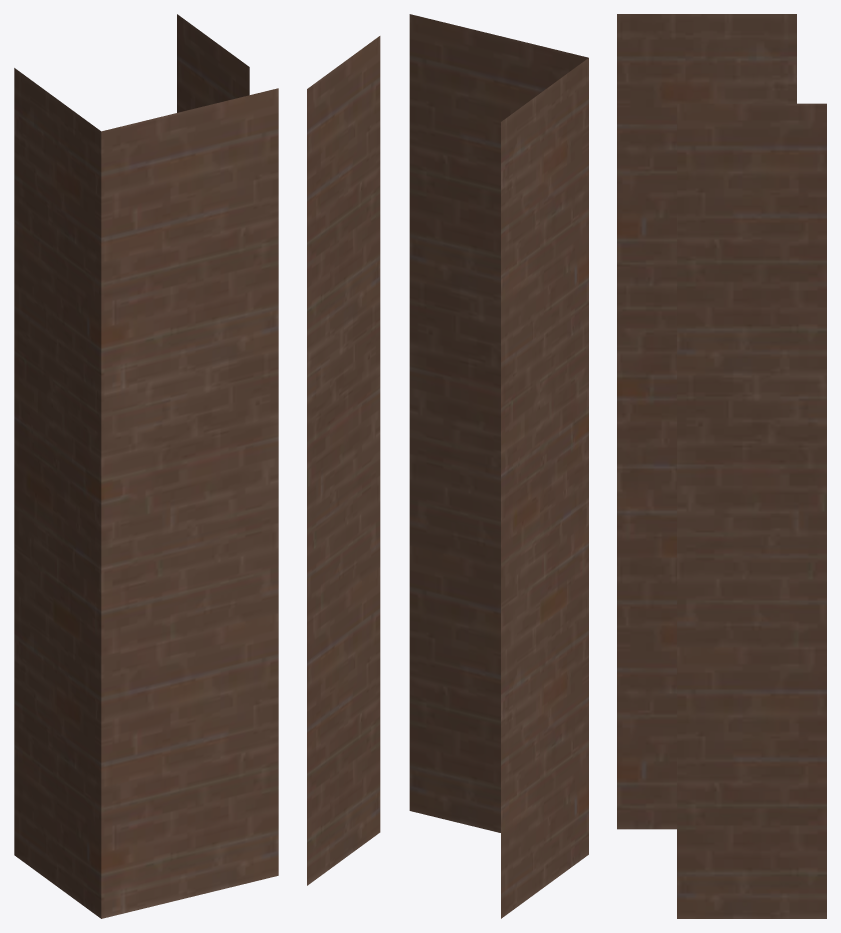
The model's file is Brick_90Angle_R.glb.
3 renders of one model, left to right at view 1: azimuth 30°, elevation 25°; view 2: azimuth 150°, elevation 25°; view 3: azimuth 270°, elevation 25°, orthographic. The views are drawn at different scales.
Visible parts, largest first — view 1: Brick_90Angle_R; view 2: Brick_90Angle_R; view 3: Brick_90Angle_R.
Part boxes in pixels (bbox=[...]): Brick_90Angle_R: bbox=[14, 14, 278, 918]; Brick_90Angle_R: bbox=[307, 14, 588, 918]; Brick_90Angle_R: bbox=[617, 14, 826, 918].
Bounding box in the file's own units: 0.7061 × 3 × 0.6999.
Materials: 1 (1 with a texture image).
